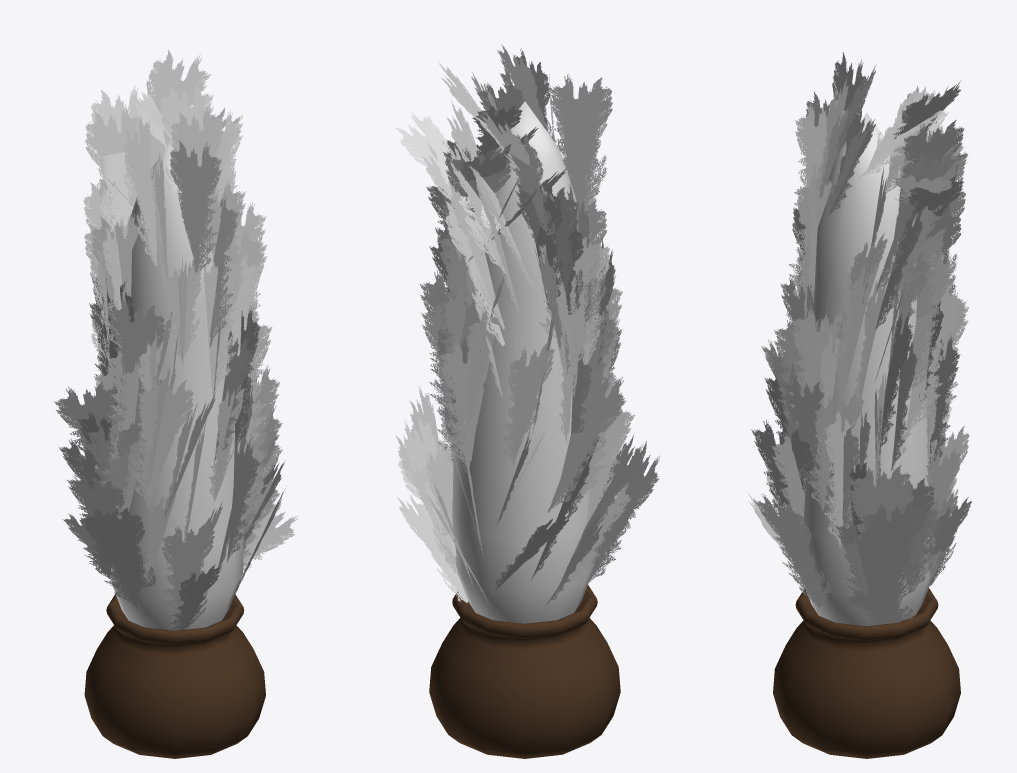
The model's file is volorant tree easy.fbx.
The picture shows the model from 3 angles, left to right: view 1: azimuth 30°, elevation 25°; view 2: azimuth 150°, elevation 25°; view 3: azimuth 270°, elevation 25°; orthographic projection. The views are drawn at different scales.
Parts seen in each view (by area): view 1: Leaves, Tree, Pot, Tree|Leaf_template|Dupli|101, Tree|Leaf_template|Dupli|127, Tree|Leaf_template|Dupli|39, Tree|Leaf_template|Dupli|16, Tree|Leaf_template|Dupli|71, Tree|Leaf_template|Dupli|110, Tree|Leaf_template|Dupli|131, Tree|Leaf_template|Dupli|91, Tree|Leaf_template|Dupli|95 (+20 smaller); view 2: Leaves, Tree, Pot, Tree|Leaf_template|Dupli|100, Tree|Leaf_template|Dupli|50, Tree|Leaf_template|Dupli|25, Tree|Leaf_template|Dupli|78, Tree|Leaf_template|Dupli|43, Tree|Leaf_template|Dupli|30, Tree|Leaf_template|Dupli|117, Tree|Leaf_template|Dupli|104, Tree|Leaf_template|Dupli|116 (+12 smaller); view 3: Leaves, Pot, Tree, Tree|Leaf_template|Dupli|35, Tree|Leaf_template|Dupli|58, Tree|Leaf_template|Dupli|4, Tree|Leaf_template|Dupli|37, Tree|Leaf_template|Dupli|65, Tree|Leaf_template|Dupli|28, Tree|Leaf_template|Dupli|53, Tree|Leaf_template|Dupli|108, Tree|Leaf_template|Dupli|112 (+27 smaller).
Boxes of the visible parts, box(x1,y1,x2,y2) form: Leaves: box(54, 49, 297, 625); Tree: box(110, 141, 243, 630); Pot: box(84, 594, 265, 758); Tree|Leaf_template|Dupli|101: box(84, 515, 156, 609); Tree|Leaf_template|Dupli|127: box(131, 390, 193, 509); Tree|Leaf_template|Dupli|39: box(204, 264, 243, 396); Tree|Leaf_template|Dupli|16: box(92, 97, 147, 232); Tree|Leaf_template|Dupli|71: box(108, 309, 164, 425); Tree|Leaf_template|Dupli|110: box(124, 61, 206, 206); Tree|Leaf_template|Dupli|131: box(56, 390, 118, 471); Tree|Leaf_template|Dupli|91: box(209, 391, 243, 502); Tree|Leaf_template|Dupli|95: box(83, 116, 140, 209); Leaves: box(395, 44, 659, 597); Tree: box(452, 101, 596, 623); Pot: box(429, 585, 620, 758); Tree|Leaf_template|Dupli|100: box(549, 86, 612, 209); Tree|Leaf_template|Dupli|50: box(500, 353, 553, 465); Tree|Leaf_template|Dupli|25: box(449, 213, 504, 345); Tree|Leaf_template|Dupli|78: box(452, 193, 504, 329); Tree|Leaf_template|Dupli|43: box(429, 454, 455, 572); Tree|Leaf_template|Dupli|30: box(403, 505, 467, 602); Tree|Leaf_template|Dupli|117: box(573, 446, 635, 554); Tree|Leaf_template|Dupli|104: box(453, 114, 521, 258); Tree|Leaf_template|Dupli|116: box(500, 54, 555, 142); Leaves: box(749, 52, 971, 625); Pot: box(773, 588, 960, 758); Tree: box(800, 113, 932, 626); Tree|Leaf_template|Dupli|35: box(863, 507, 925, 601); Tree|Leaf_template|Dupli|58: box(782, 386, 824, 487); Tree|Leaf_template|Dupli|4: box(790, 317, 843, 426); Tree|Leaf_template|Dupli|37: box(907, 258, 950, 397); Tree|Leaf_template|Dupli|65: box(808, 402, 861, 511); Tree|Leaf_template|Dupli|28: box(857, 95, 933, 178); Tree|Leaf_template|Dupli|53: box(794, 113, 840, 224); Tree|Leaf_template|Dupli|108: box(929, 348, 958, 469); Tree|Leaf_template|Dupli|112: box(875, 322, 910, 457).
Bounding box in the file's own units: 531 × 1222 × 462.
